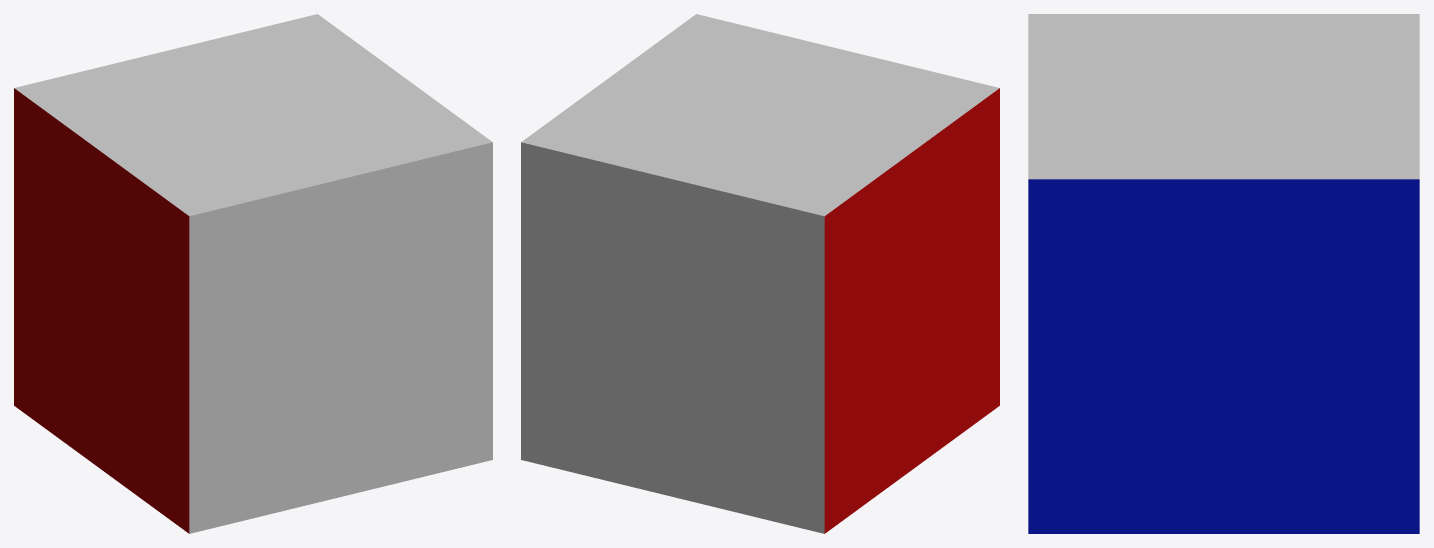
File: boxes-ceiling-light.obj
3 views of the same model, side by side, from view 1: azimuth 30°, elevation 25°; view 2: azimuth 150°, elevation 25°; view 3: azimuth 270°, elevation 25° (orthographic). The views are drawn at different scales.
Parts seen in each view (by area): view 1: Walls, Wall_front; view 2: Walls; view 3: Walls.
Boxes of the visible parts, <box> form: Walls: <box>14,14,492,533</box>; Wall_front: <box>189,142,492,533</box>; Walls: <box>521,14,999,533</box>; Walls: <box>1028,14,1419,533</box>.
Size of the model in its own units: 2 by 2.01 by 2.
